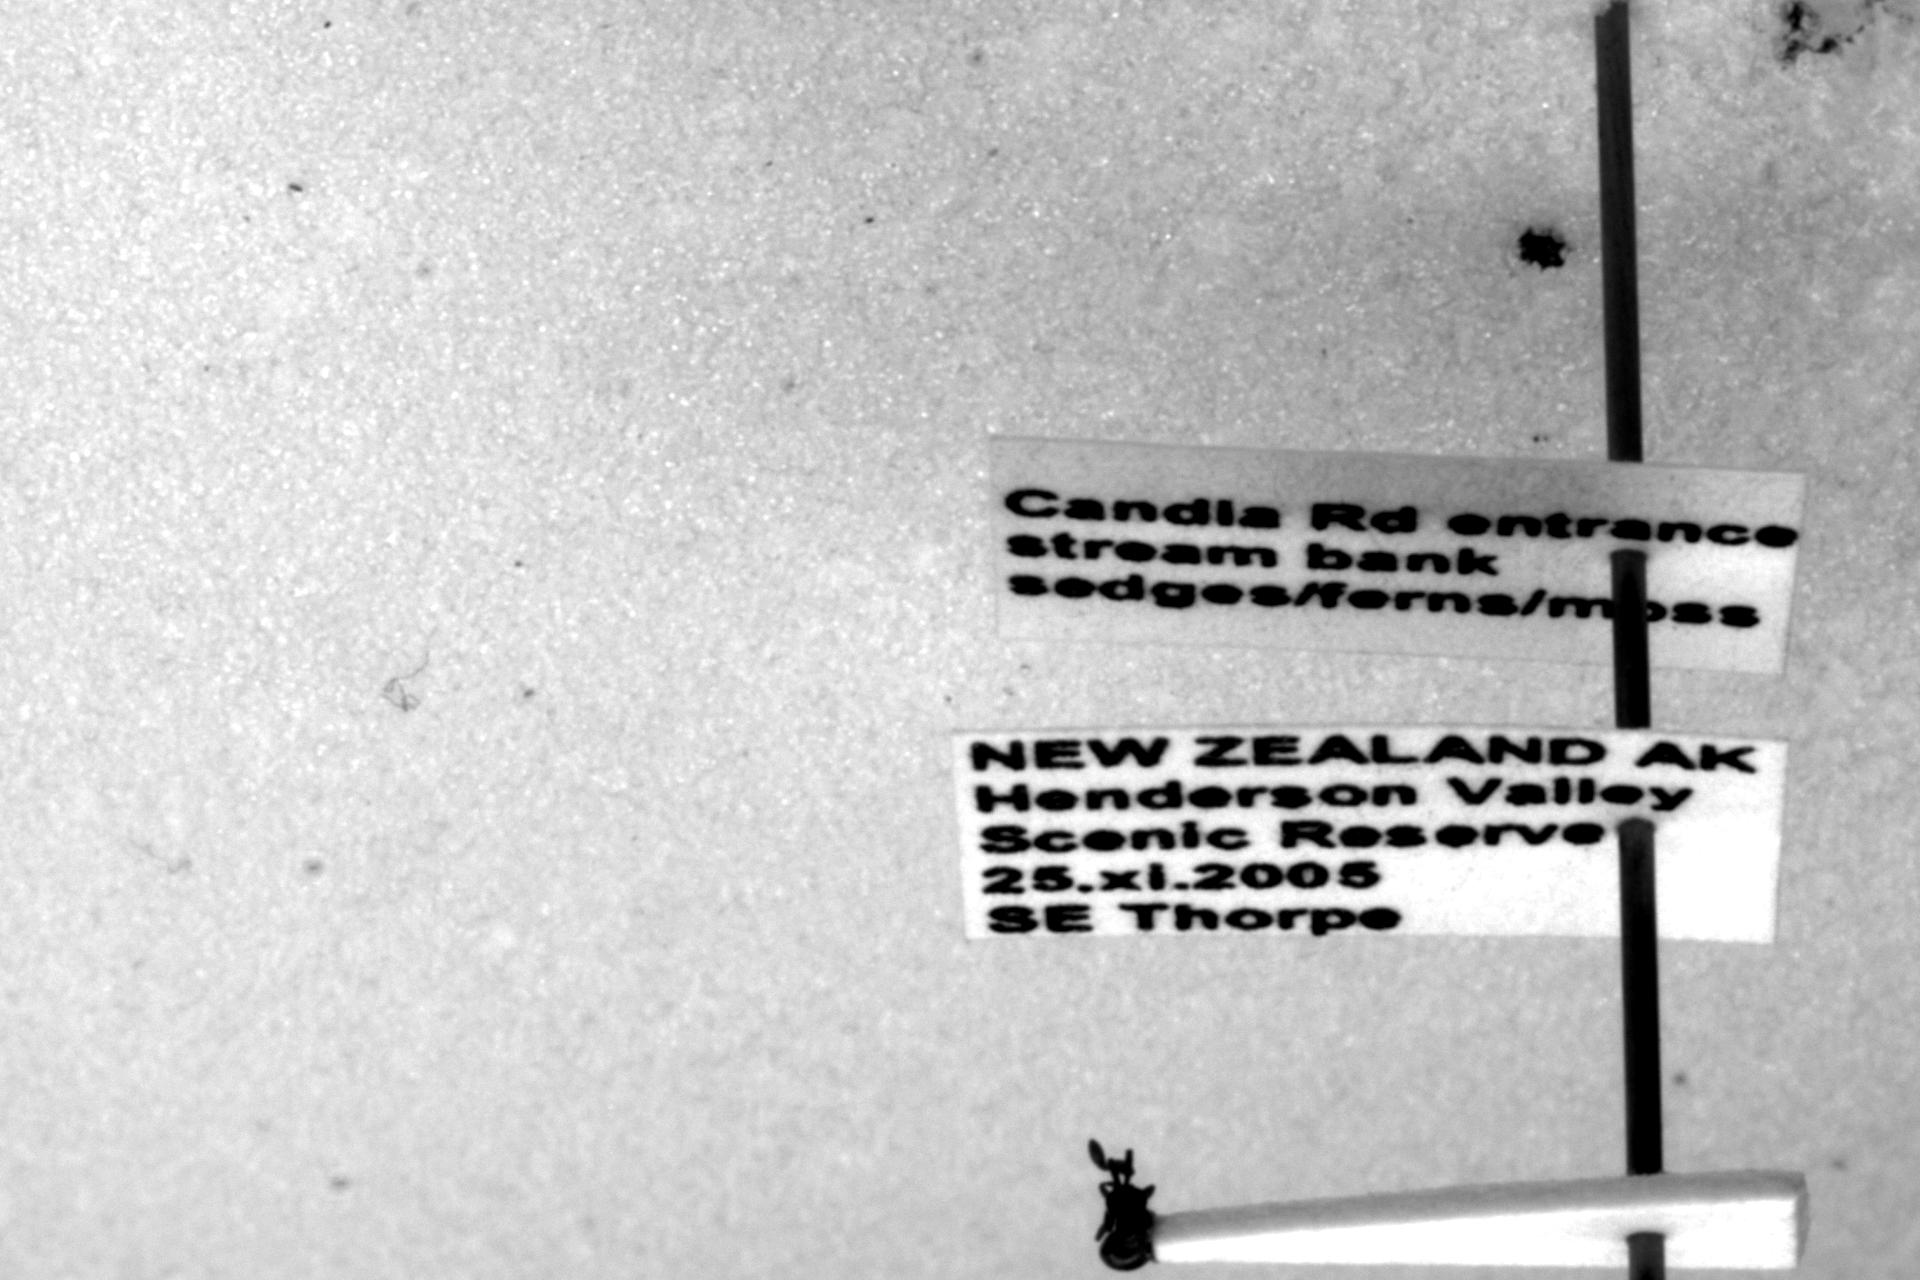typed_label: (990, 439, 1804, 675), (952, 728, 1785, 941)
